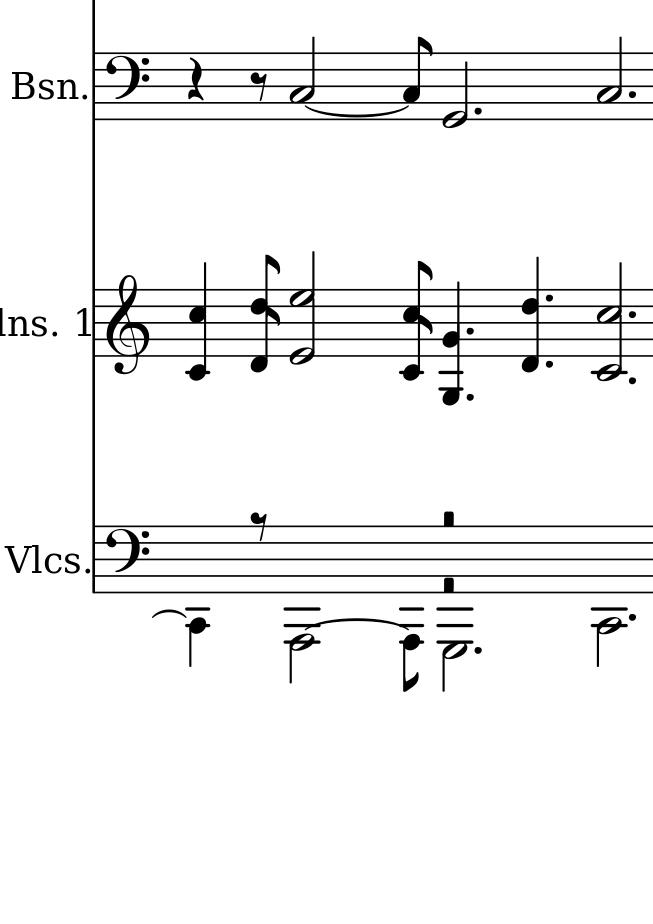2_-2_5: (593, 260, 627, 382)
2_-4: (592, 524, 627, 667)
2_-6: (283, 524, 320, 684)
2_-7: (438, 526, 474, 694)
2_0: (441, 50, 470, 131)
2_0_7: (289, 250, 317, 369)
2_3: (288, 32, 318, 123), (595, 34, 624, 123)
4_-1_6: (519, 257, 542, 373)
4_-2: (185, 524, 211, 668)
4_-2_5: (186, 261, 211, 382)
4_-5_2: (439, 280, 463, 408)
8_-1_6: (250, 254, 282, 373)
8_-2_5: (401, 258, 434, 383)
8_-6: (397, 525, 423, 694)
8_3: (399, 35, 434, 122)
Bsn: (13, 69, 80, 102)
Fclef: (106, 525, 157, 599), (107, 53, 154, 124)
Gclef: (103, 273, 156, 379)
Rests4: (184, 55, 207, 103)
Rests8: (250, 68, 272, 104), (249, 509, 271, 542)
Single_barline: (87, 53, 102, 121), (88, 290, 102, 357), (88, 525, 101, 595)
Slur: (303, 105, 408, 116)
Vlc: (1, 542, 64, 576)
dot: (470, 103, 485, 119), (543, 290, 557, 307), (542, 355, 557, 369), (624, 372, 639, 385), (625, 87, 638, 101), (626, 307, 639, 321), (463, 324, 476, 338), (464, 390, 476, 404), (625, 611, 637, 623), (472, 644, 483, 655)
